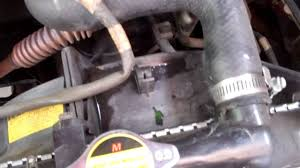radiator_hose: (24, 1, 267, 101)
